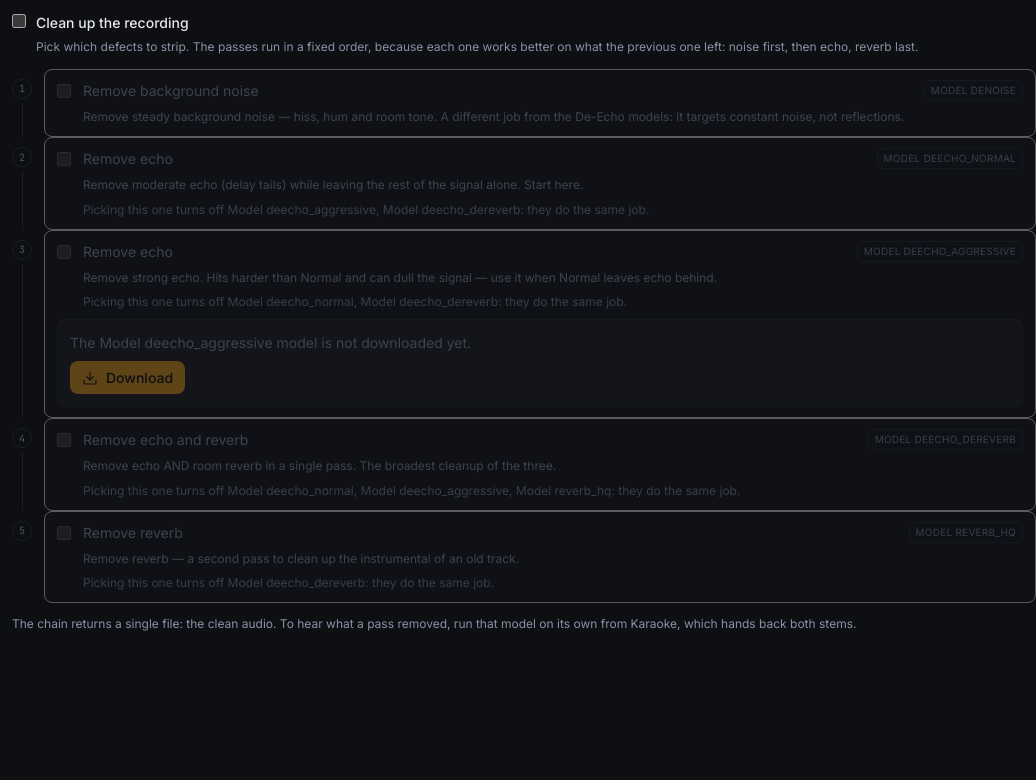
Scenario: CleanupChainPanel › locks the steps until the chain is switched on
This screenshot has width=1036, height=780.
expect the checkbox labelled "Remove background noise Model denoise" is disabled: met, box [57,84,71,98]
Click the checkbox labelled "Clean up the recording": {"x": 19, "y": 21} [12,14,26,28]
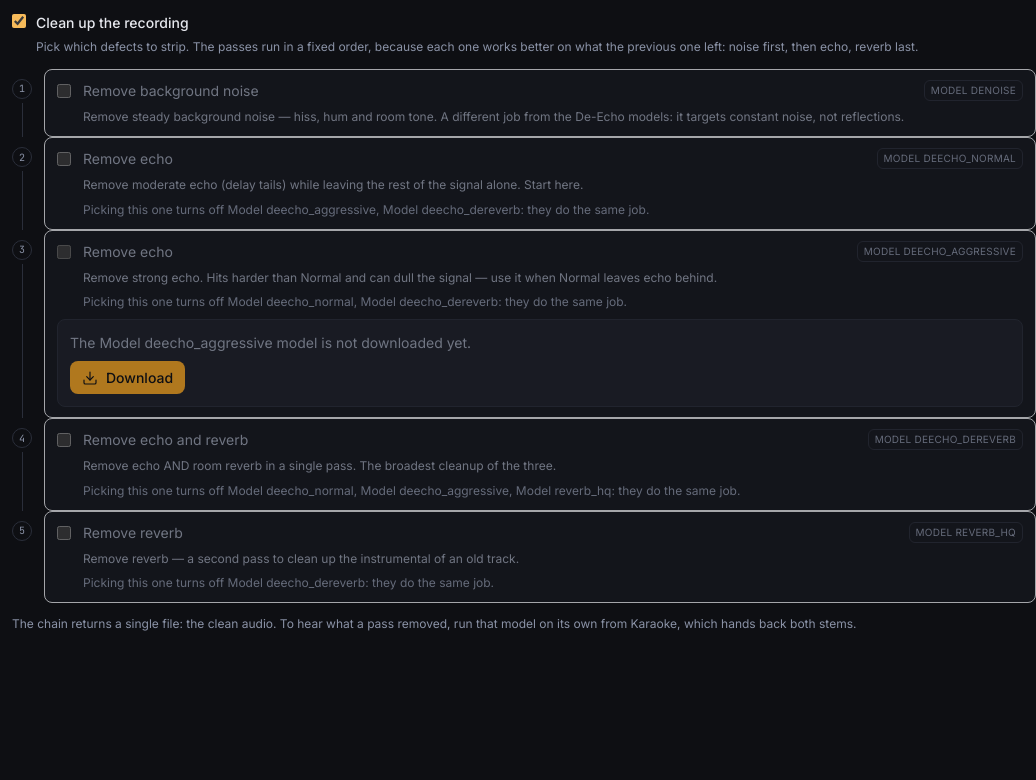
expect the checkbox labelled "Remove background noise Model denoise" is enabled: met, box [57,84,71,98]
